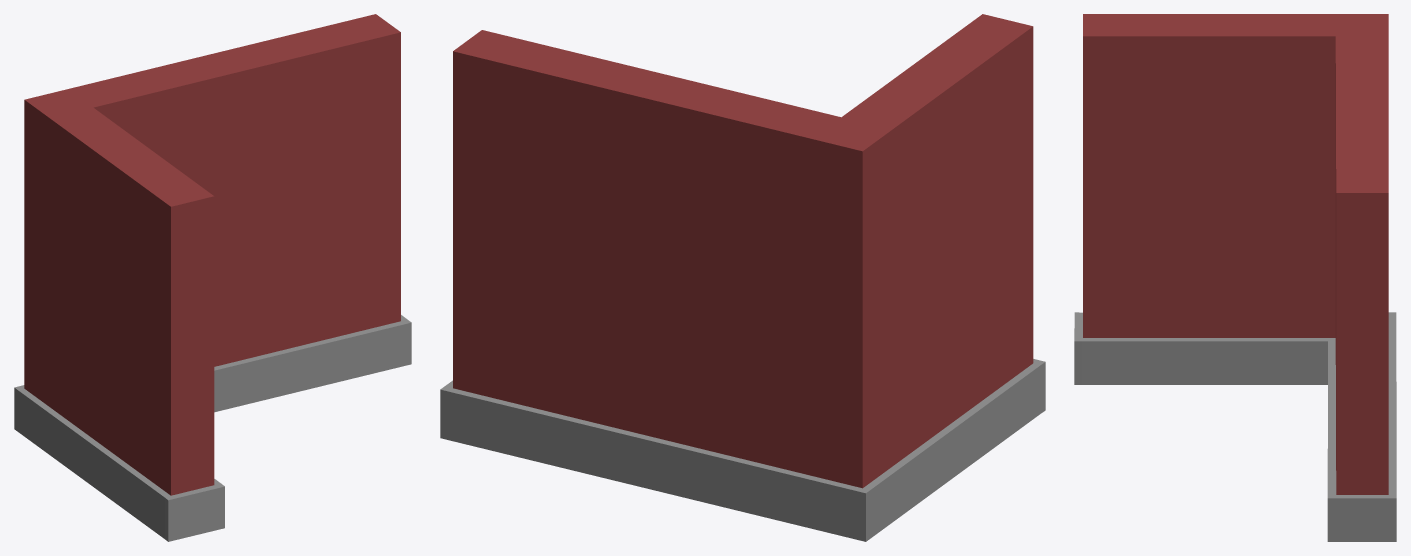
Rendered from qiang09.FBX.
3 views of the same model, side by side, from view 1: azimuth 30°, elevation 25°; view 2: azimuth 150°, elevation 25°; view 3: azimuth 270°, elevation 25° (orthographic). The views are drawn at different scales.
Visible parts, largest first — view 1: 09; view 2: 09; view 3: 09.
Boxes of the visible parts, x1=… form: 09: x1=14, y1=14, x2=411, y2=541; 09: x1=440, y1=14, x2=1045, y2=541; 09: x1=1074, y1=14, x2=1396, y2=541.
Size of the model in its own units: 374 by 324 by 274.
